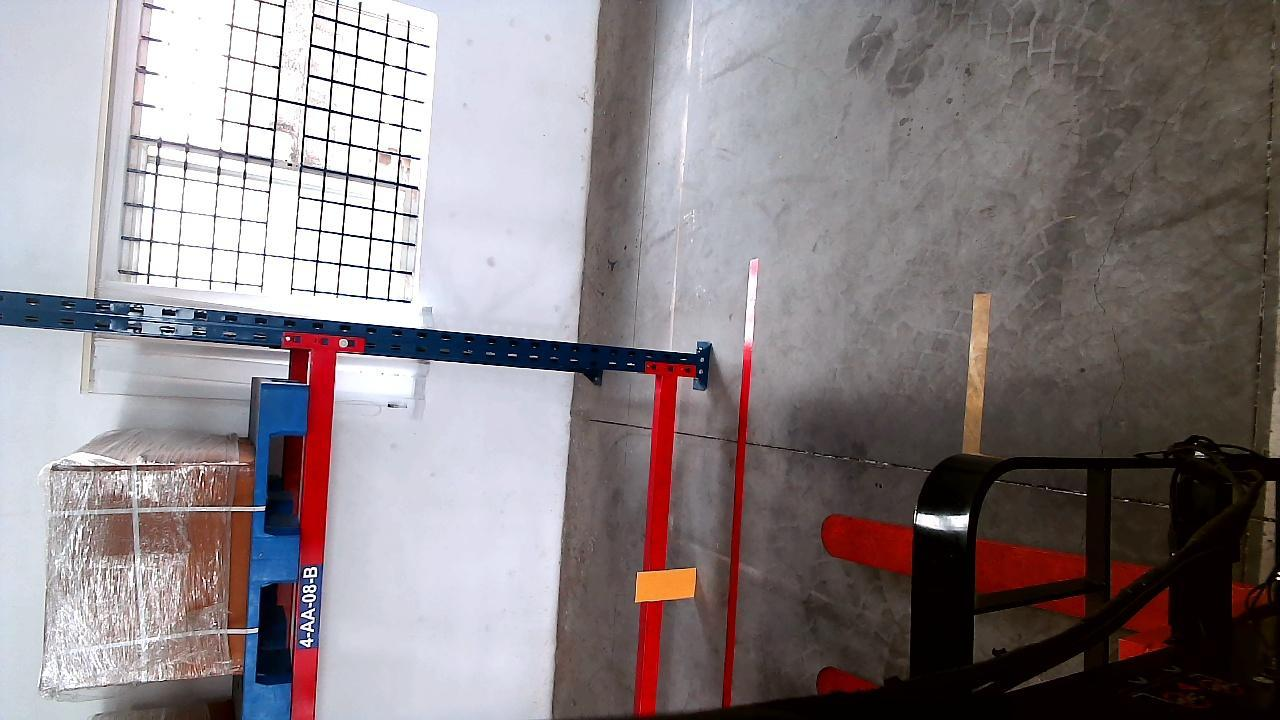red_line: (720, 258, 758, 703)
yellow_line: (960, 294, 991, 452)
